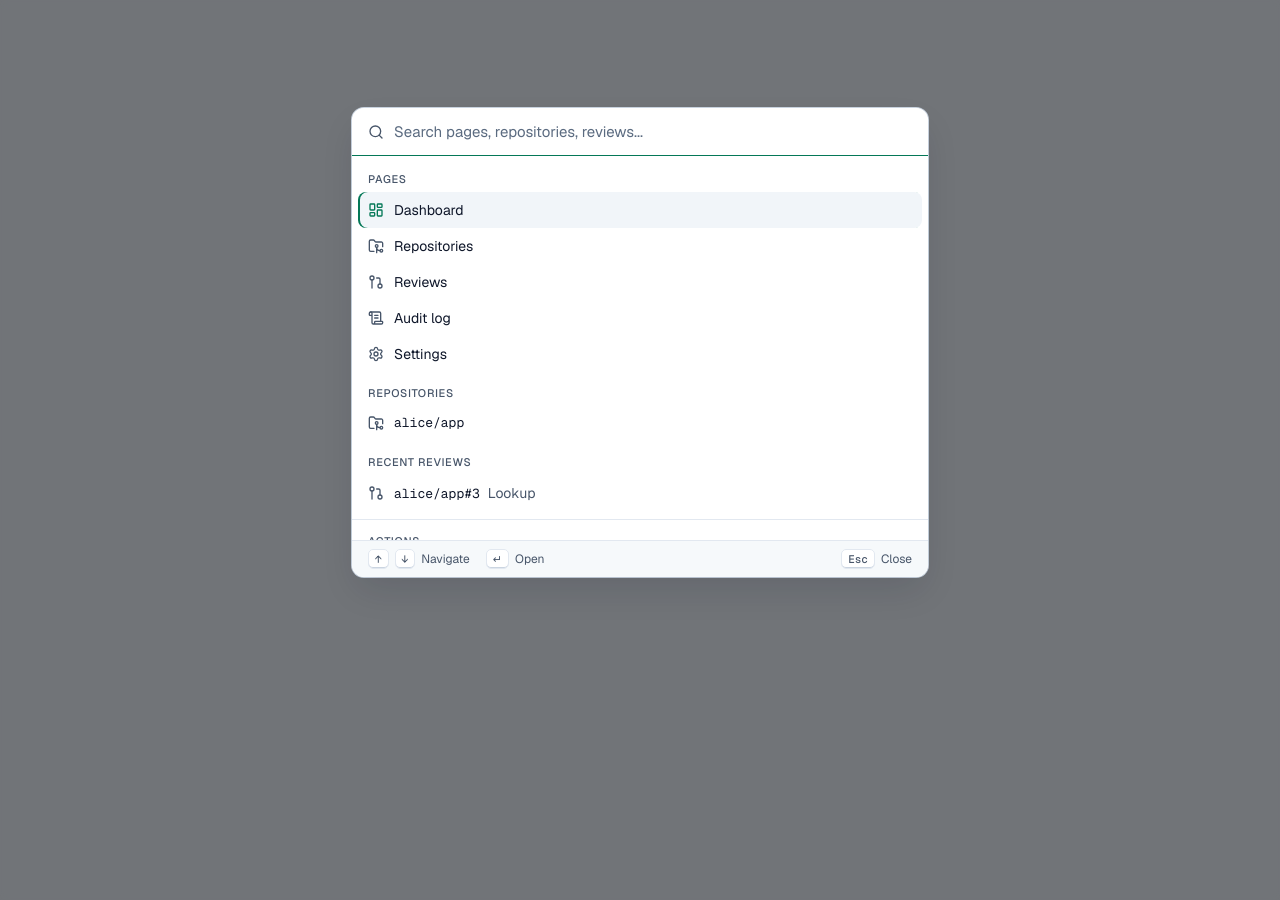
Test: command palette › filters as you type
Expected: the text "alice/app" is shown, [394,414,464,433]
Type "settings" into the dropdown with placeholder "Search pages, repositories, reviews..." at (653, 132), box [394,108,912,155]
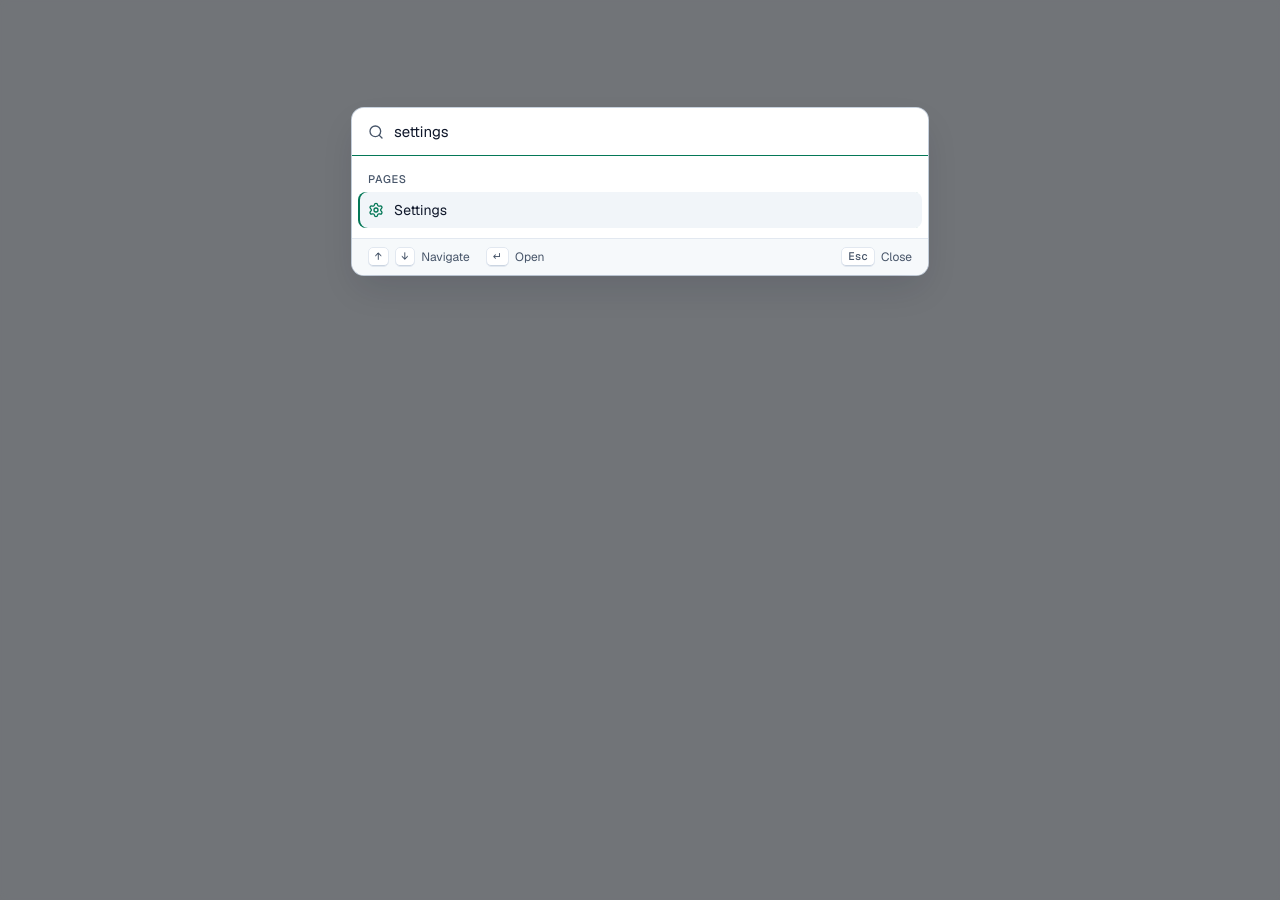
Expected: the option "Settings" is shown, [358,192,922,228]
Expected: the option "Audit log" is gone
